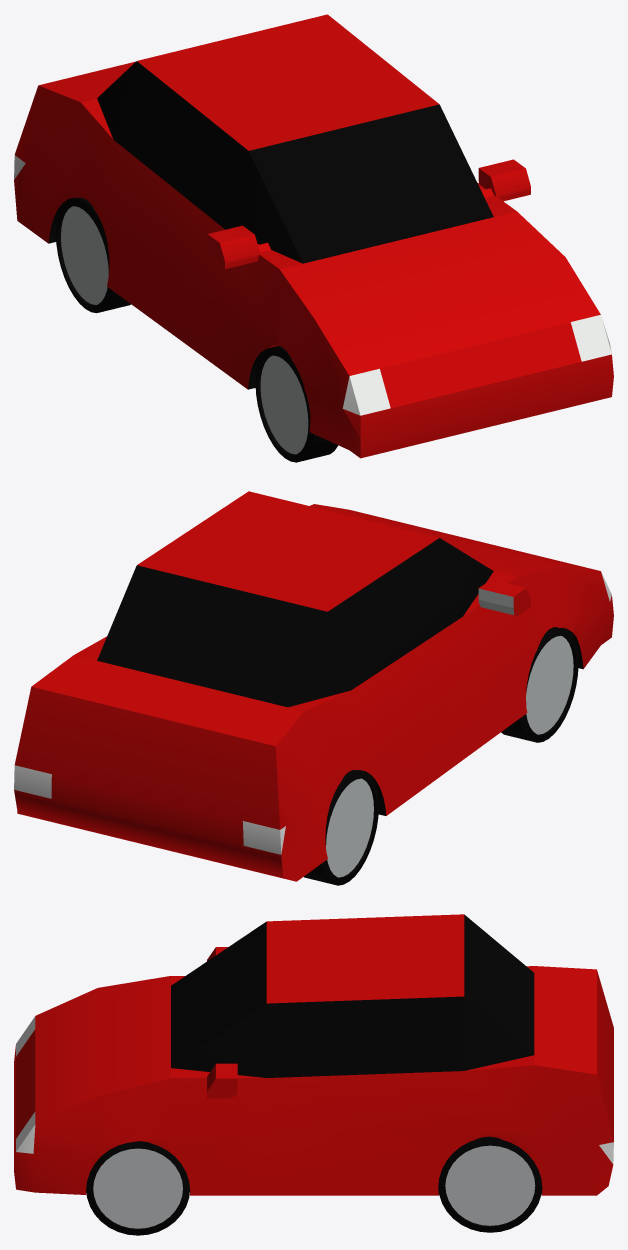
The model's file is CarSmallRed.fbx.
3 views of the same model, one above another, from view 1: azimuth 30°, elevation 25°; view 2: azimuth 150°, elevation 25°; view 3: azimuth 270°, elevation 25° (orthographic). The views are drawn at different scales.
Visible parts, largest first — view 1: Cube.005, Cylinder.009, Cylinder.008, Cube.003, Cube.004; view 2: Cube.005, Cylinder.008, Cylinder.009, Cube.003; view 3: Cube.005, Cylinder.011, Cylinder.010, Cube.004.
Boxes of the visible parts, box(x1,y1,x2,y2) form: Cube.005: box(14, 14, 613, 458); Cylinder.009: box(255, 346, 337, 462); Cylinder.008: box(56, 197, 130, 313); Cube.003: box(207, 225, 270, 269); Cube.004: box(478, 159, 530, 201); Cube.005: box(14, 491, 613, 881); Cylinder.008: box(304, 770, 378, 885); Cylinder.009: box(501, 627, 578, 742); Cube.003: box(478, 579, 530, 616); Cube.005: box(14, 914, 613, 1195); Cylinder.011: box(438, 1136, 542, 1232); Cylinder.010: box(86, 1141, 189, 1235); Cube.004: box(207, 1063, 237, 1098).
Bounding box in the file's own units: 438 × 346 × 843.
